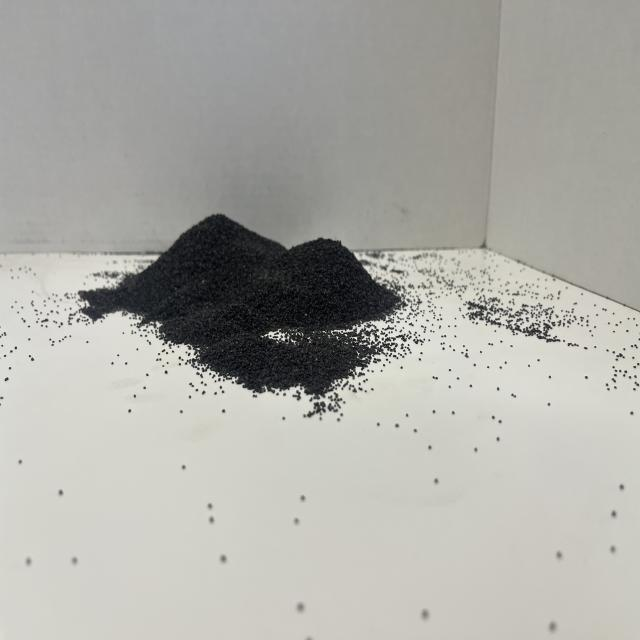Poppy Seeds: (74, 188, 430, 418)
